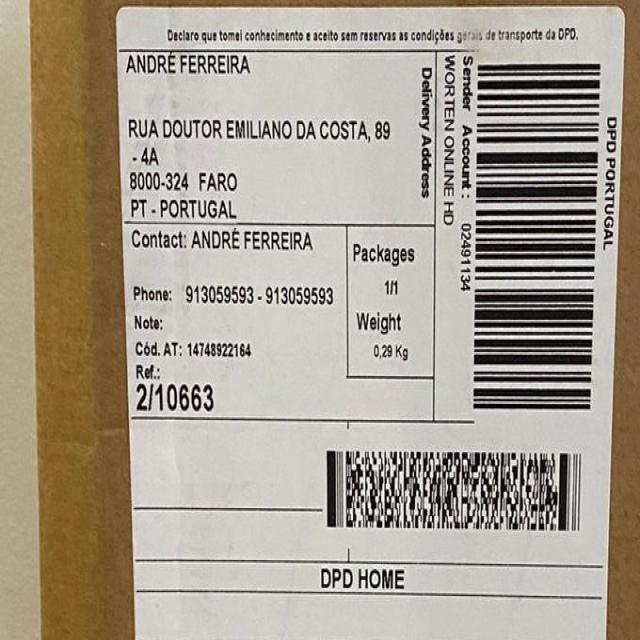Barcode: (470, 62, 602, 411)
